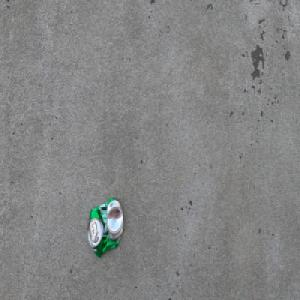SodaCan: (87, 197, 124, 258)
